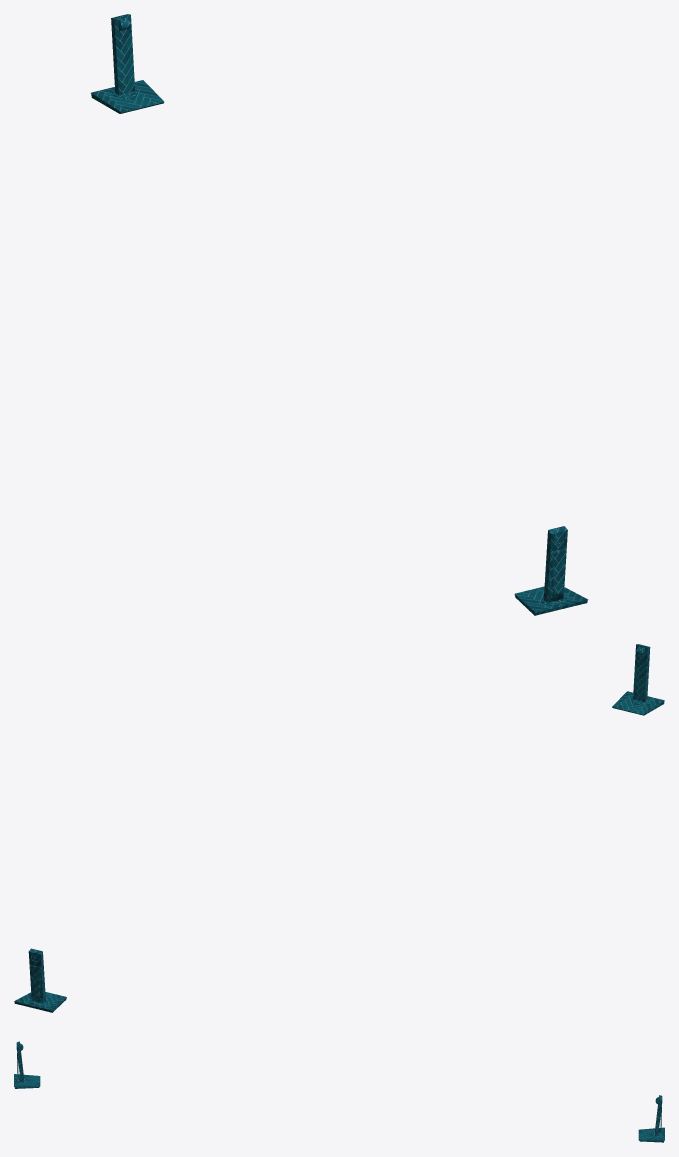
Rendered from Blks_-_Plastic_-_Graphite_-_Matte.obj.
3 renders of one model, top to bottom at view 1: azimuth 30°, elevation 25°; view 2: azimuth 150°, elevation 25°; view 3: azimuth 270°, elevation 25°, orthographic. The views are drawn at different scales.
Size of the model in its own units: 1.38 by 0.4345 by 6.02.
Materials: 1 (1 with a texture image).
